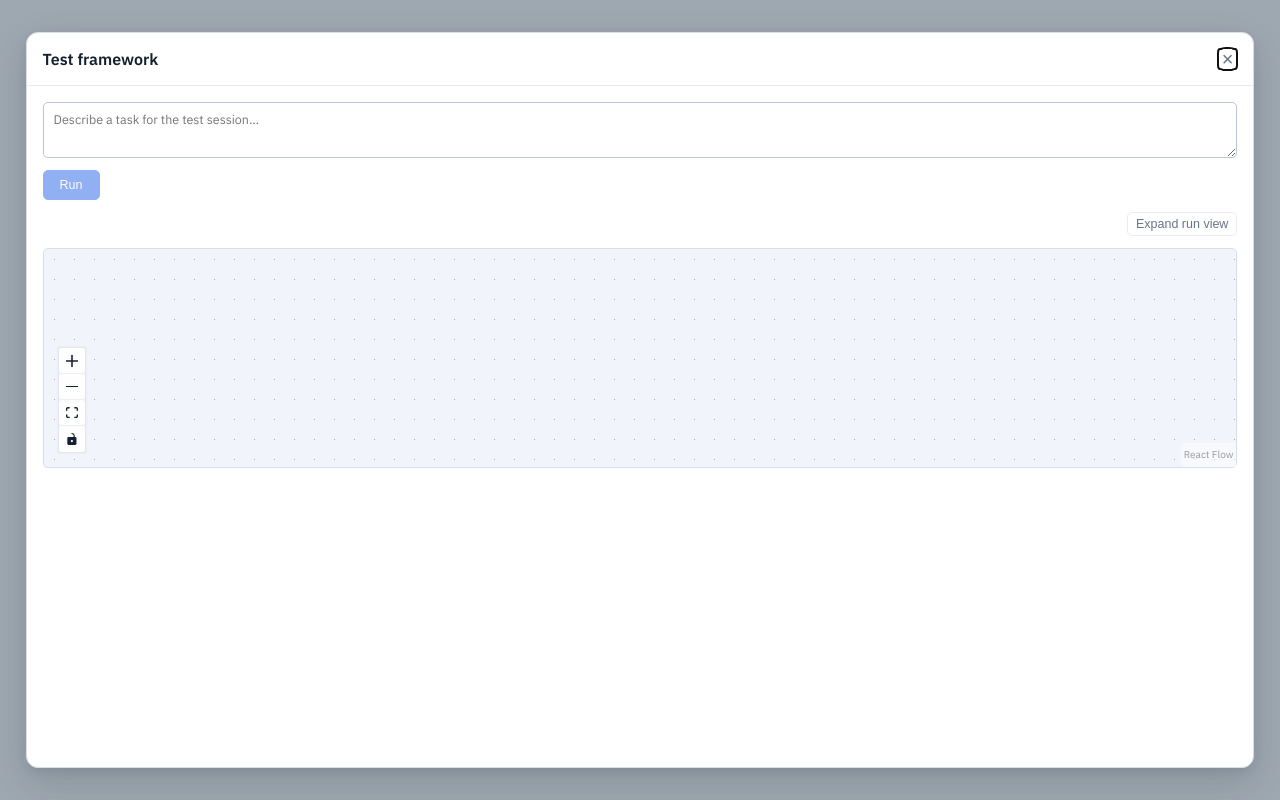
Test case: TesterModal › tier_limited_lists_the_blocked_action_and_a_promote_affordance
In the text box with test id "tester-task-input": (640, 130) [43,102,1237,158], type "write a report"
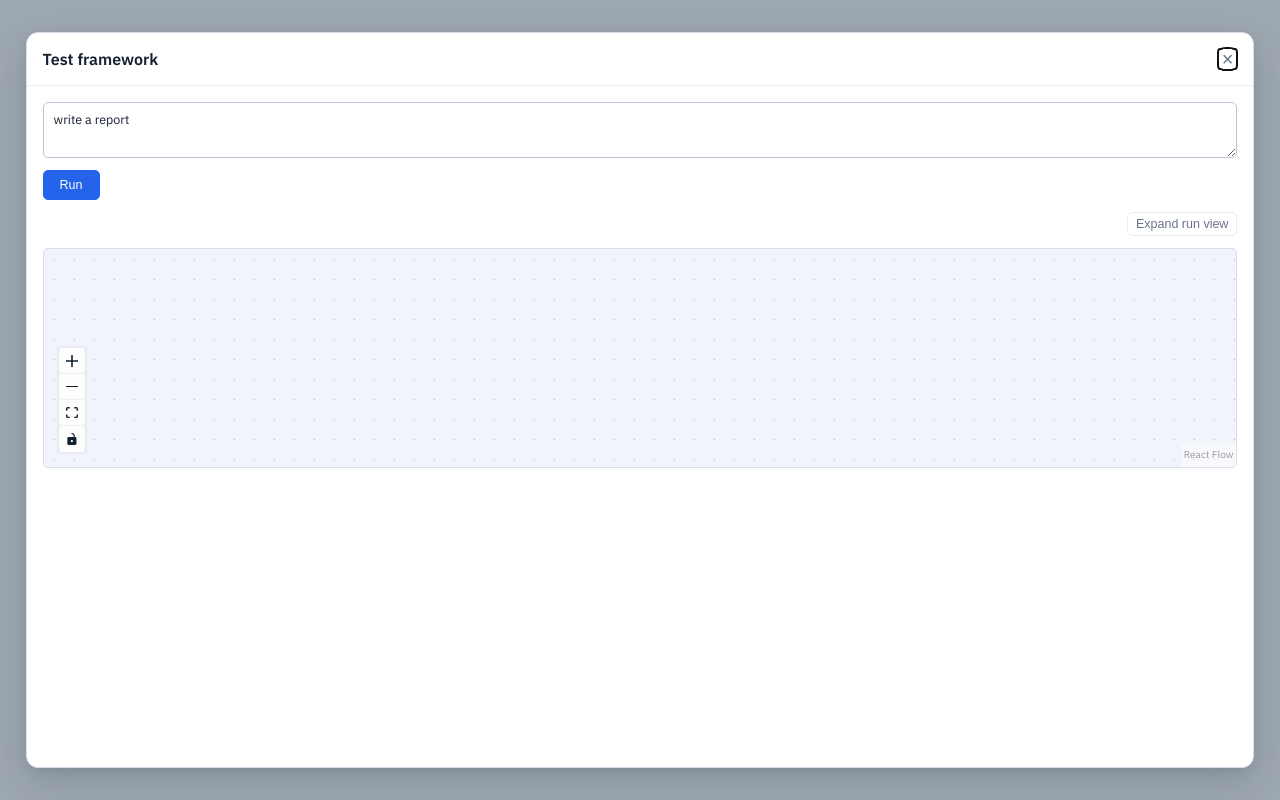
Click the button with test id "tester-run": (71, 185) [43,170,100,200]
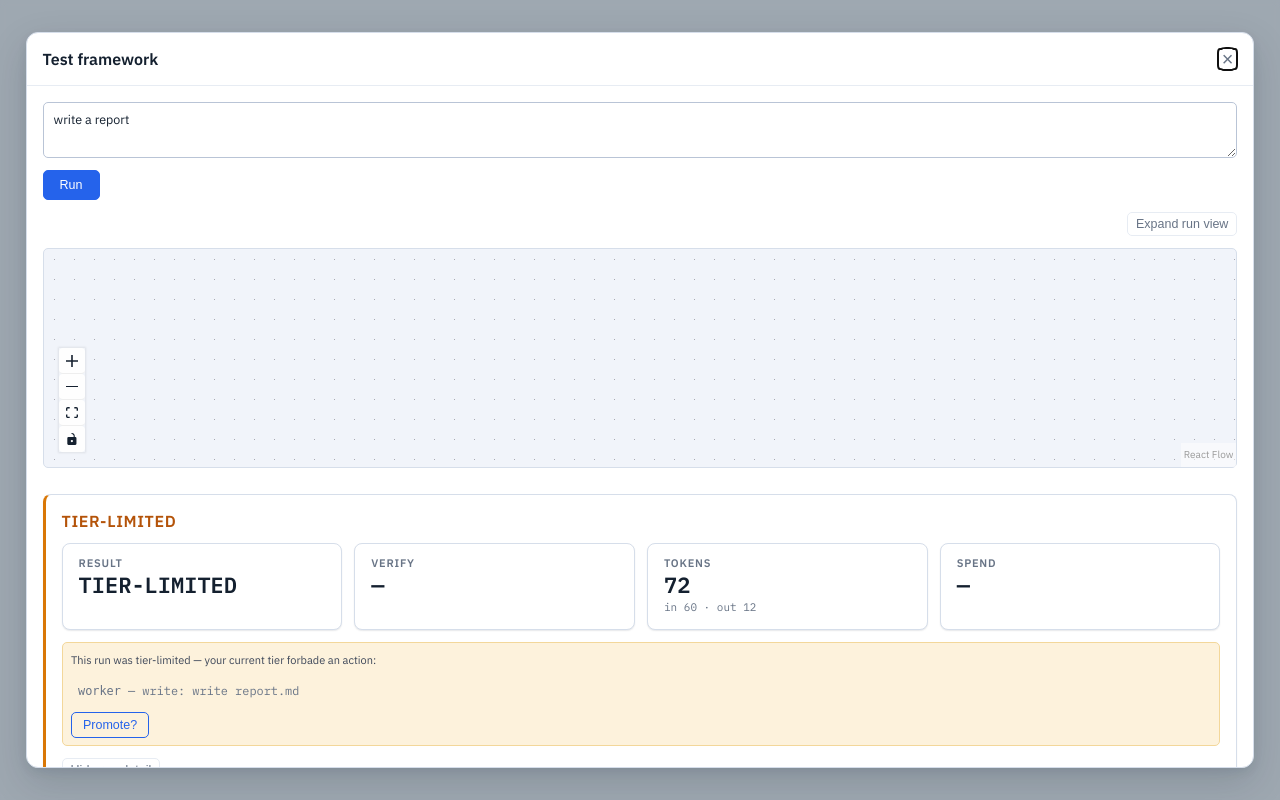
Expected: the element with test id "tester-tier-blocks" shows "worker", [78,684,121,698]
Expected: the element with test id "tester-tier-blocks" shows "write report.md", [192,683,299,698]
Expected: the button with test id "tester-tier-promote" is shown, [71,712,149,738]
